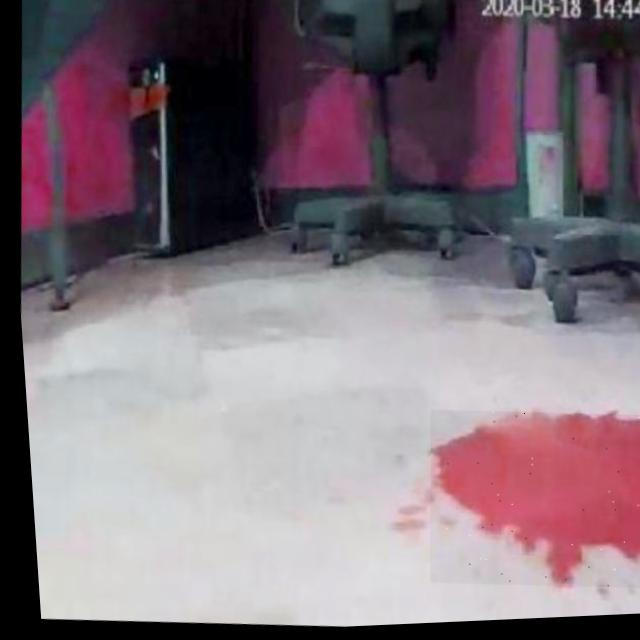spillage: (423, 420, 640, 590)
